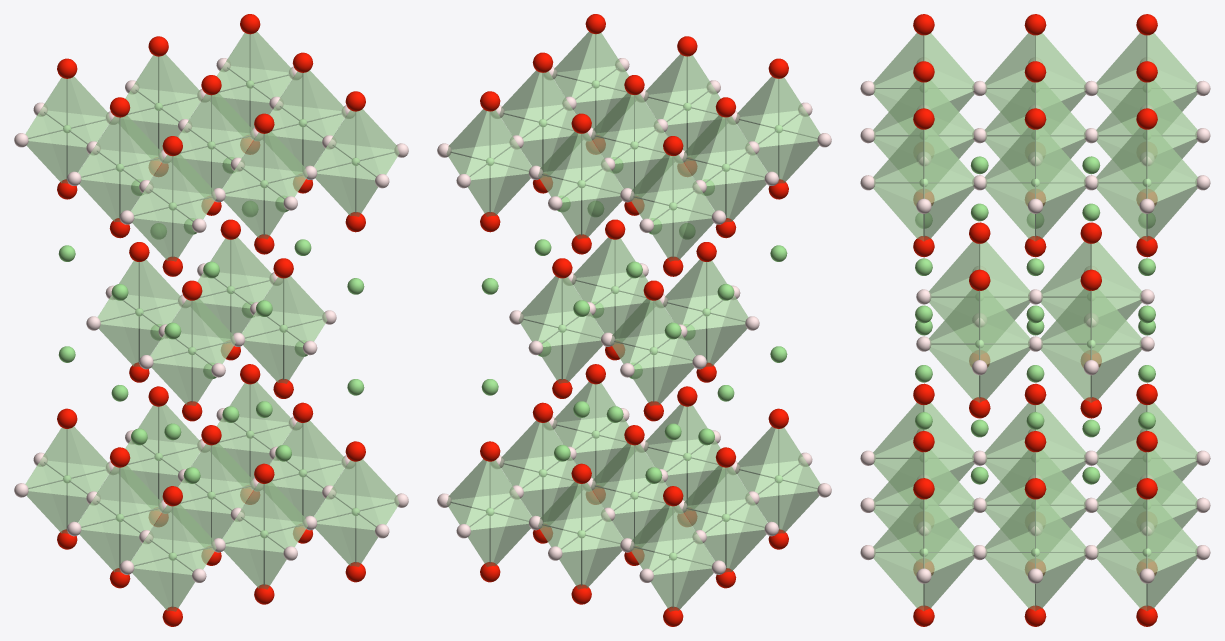
Rendered from La1.136Sr0.864LiH1.872O2.128.glb.
3 renders of one model, left to right at view 1: azimuth 30°, elevation 25°; view 2: azimuth 150°, elevation 25°; view 3: azimuth 270°, elevation 25°, orthographic. The views are drawn at different scales.
Parts seen in each view (by area): view 1: Shape_IndexedFaceSet, atom5_IndexedFaceSet, atom3_IndexedFaceSet, Shape_Cylinder, atom0_IndexedFaceSet, atom2_IndexedFaceSet; view 2: Shape_IndexedFaceSet, atom5_IndexedFaceSet, atom3_IndexedFaceSet, Shape_Cylinder, atom0_IndexedFaceSet, atom2_IndexedFaceSet; view 3: Shape_IndexedFaceSet, atom5_IndexedFaceSet, atom3_IndexedFaceSet, atom0_IndexedFaceSet, Shape_Cylinder, atom2_IndexedFaceSet.
Part boxes in pixels (bbox=[...]): Shape_IndexedFaceSet: bbox=[25, 32, 399, 611]; atom5_IndexedFaceSet: bbox=[57, 14, 365, 626]; atom3_IndexedFaceSet: bbox=[14, 58, 408, 582]; Shape_Cylinder: bbox=[28, 34, 395, 607]; atom0_IndexedFaceSet: bbox=[58, 157, 364, 483]; atom2_IndexedFaceSet: bbox=[63, 80, 359, 560]; Shape_IndexedFaceSet: bbox=[446, 32, 820, 611]; atom5_IndexedFaceSet: bbox=[480, 14, 788, 626]; atom3_IndexedFaceSet: bbox=[437, 58, 831, 582]; Shape_Cylinder: bbox=[450, 34, 817, 607]; atom0_IndexedFaceSet: bbox=[481, 157, 787, 483]; atom2_IndexedFaceSet: bbox=[486, 80, 782, 560]; Shape_IndexedFaceSet: bbox=[873, 33, 1197, 611]; atom5_IndexedFaceSet: bbox=[913, 14, 1157, 626]; atom3_IndexedFaceSet: bbox=[860, 57, 1210, 583]; atom0_IndexedFaceSet: bbox=[915, 156, 1155, 484]; Shape_Cylinder: bbox=[875, 35, 1195, 606]; atom2_IndexedFaceSet: bbox=[919, 178, 1151, 556].
Size of the model in its own units: 11.42 by 18.58 by 11.42.
